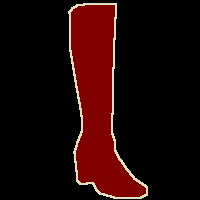shoe: (69, 4, 147, 198)
